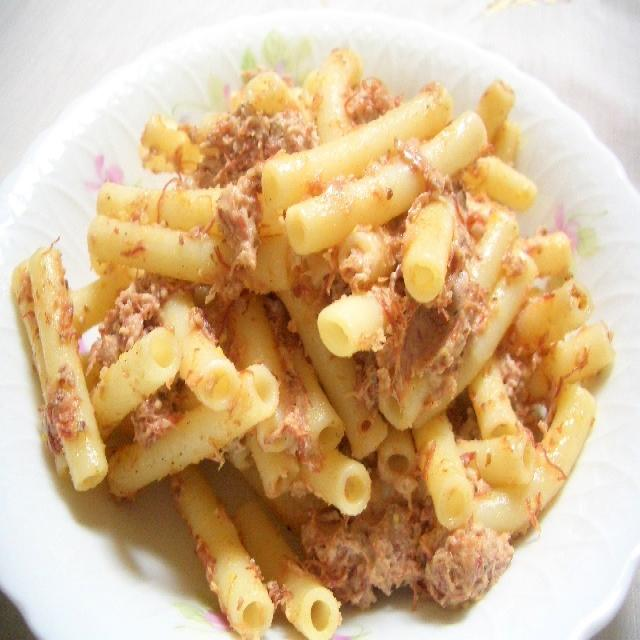蔬菜料理: (0, 5, 640, 640)
